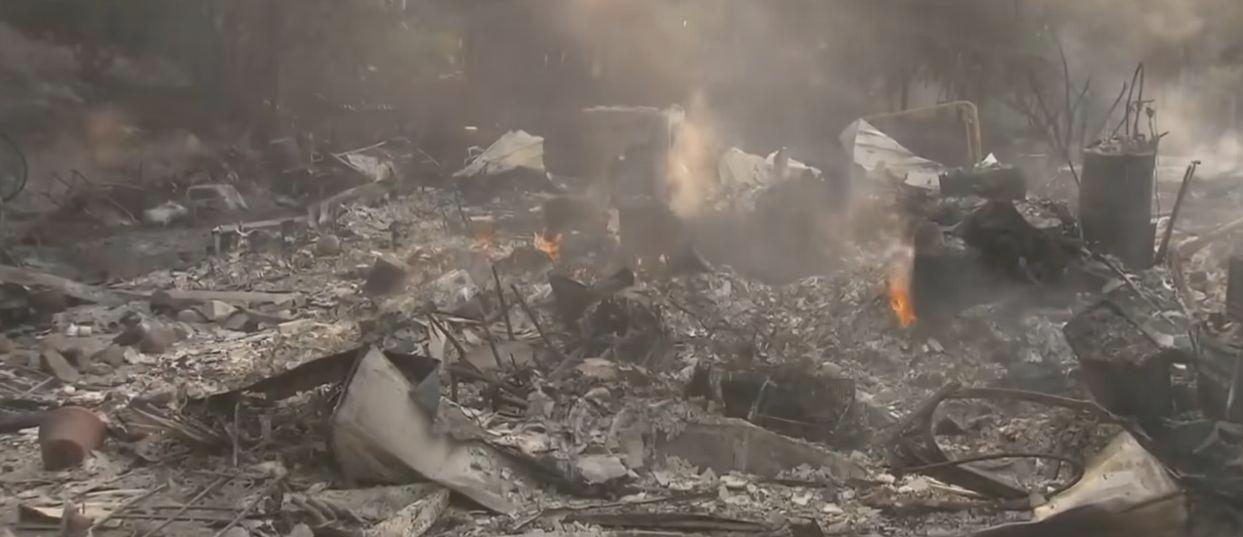fire: (882, 287, 918, 322), (531, 226, 561, 252)
